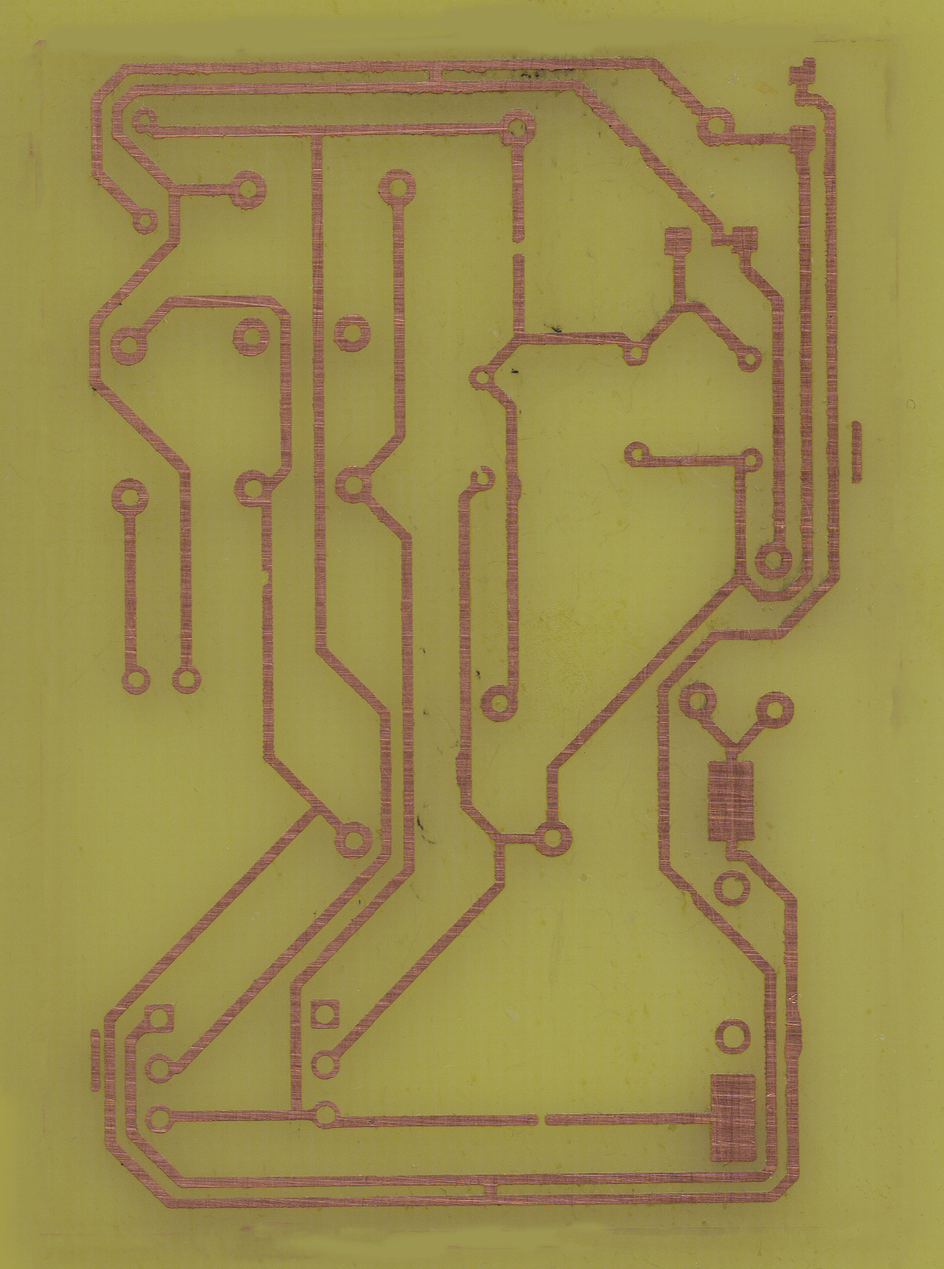missing_hole: (788, 56, 816, 85), (470, 464, 496, 491)
mouse_bite: (677, 886, 695, 905), (261, 566, 272, 589), (628, 143, 645, 157)
open_circuit: (528, 1113, 555, 1127), (512, 234, 525, 262)
short: (422, 60, 449, 93), (481, 1174, 500, 1205)
spur: (784, 1010, 807, 1062), (452, 746, 472, 792), (509, 475, 523, 504)
spurious_copper: (88, 1028, 102, 1093), (851, 420, 863, 484)
